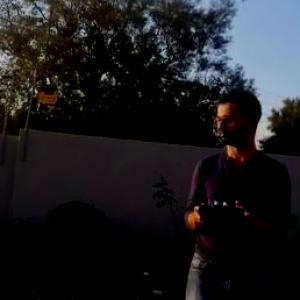follow: (179, 85, 295, 299)
